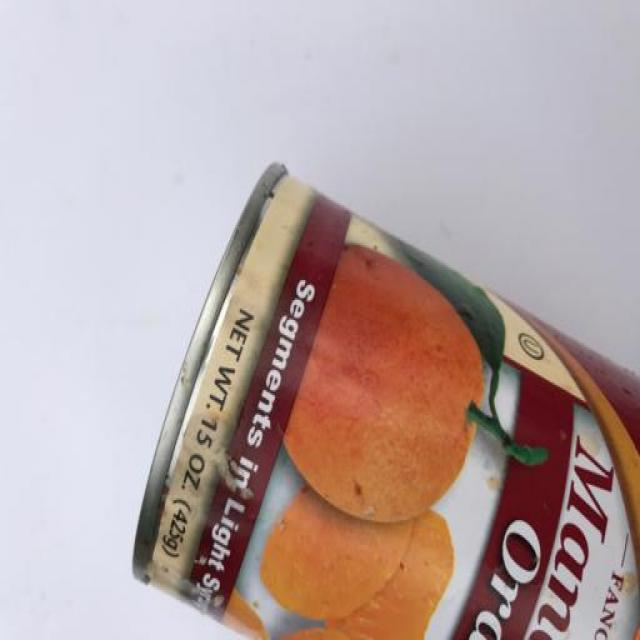metel: (25, 91, 640, 639)
